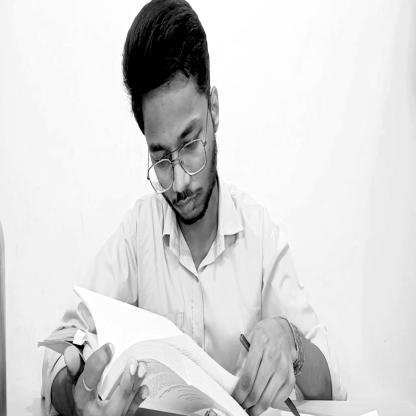Distracted: (122, 0, 219, 234)
